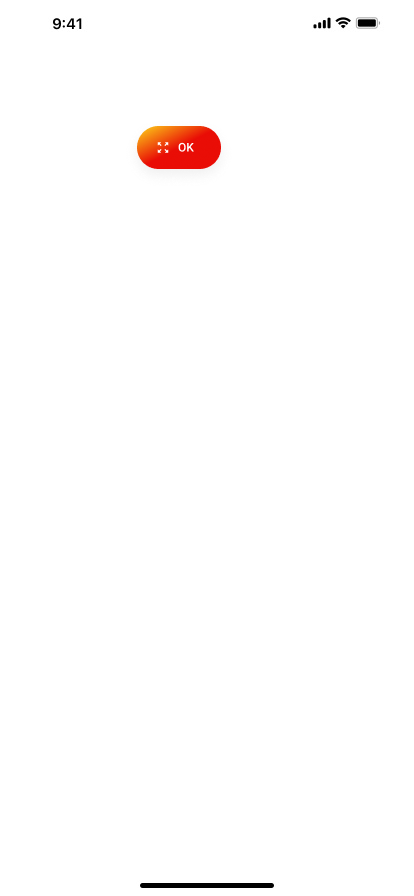Buttons: (122, 117, 236, 190)
Home Indicator: (0, 862, 414, 896)
Status Bar: (0, 0, 414, 44)
